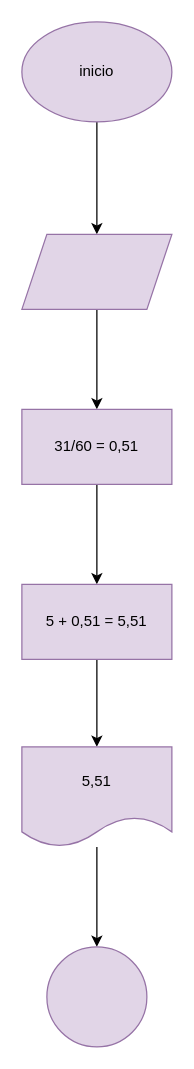
Some shapes in this 194 by 1069 pixel diagram are drawn without their labels. Here are the shapes that lost their labels. From the top down, the box of each, then its label:
(21, 233, 172, 309): 5h35min
(46, 946, 147, 1047): fim
